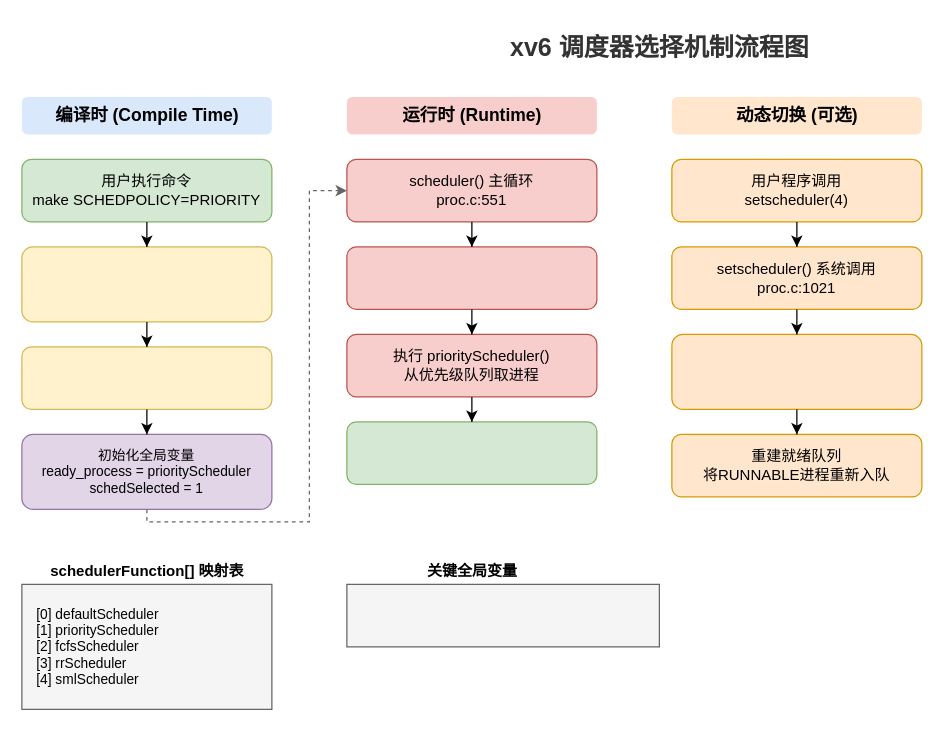
The diagram is 944 pixels wide and 731 high, and some of its shapes have lost their labels. The shapes that lost their labels are listed below. From the top down, each one's box as (x1, y1, x2, y2) in pixels, then its label:
(21, 246, 272, 322): Makefile 处理 CFLAGS += -D $(SCHEDPOLICY) → gcc -DPRIORITY ...
(346, 246, 597, 309): 调用调度函数 p = (*ready_process)()
(21, 346, 272, 409): C预处理器检查 sdh.h #ifdef PRIORITY → 生效
(671, 333, 922, 409): 更新函数指针 ready_process = schedulerFunction[4] schedSelected = 4
(346, 421, 597, 484): 返回进程 p 切换上下文执行
(346, 583, 659, 647): ready_process: 函数指针，指向当前调度函数 schedSelected: 当前调度器ID (0-4)
